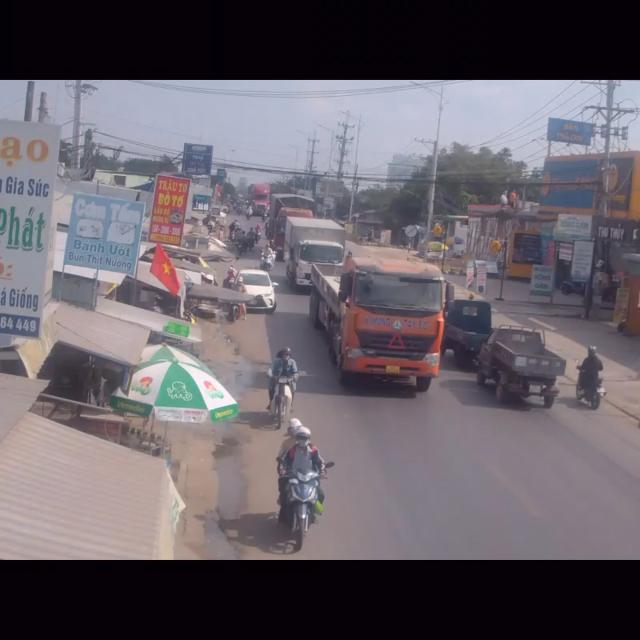car: (232, 269, 276, 311)
motorbike: (280, 419, 324, 546), (264, 347, 296, 427), (576, 347, 605, 414)
truck: (305, 249, 446, 392), (475, 324, 559, 414), (282, 213, 349, 294), (447, 294, 487, 368)
